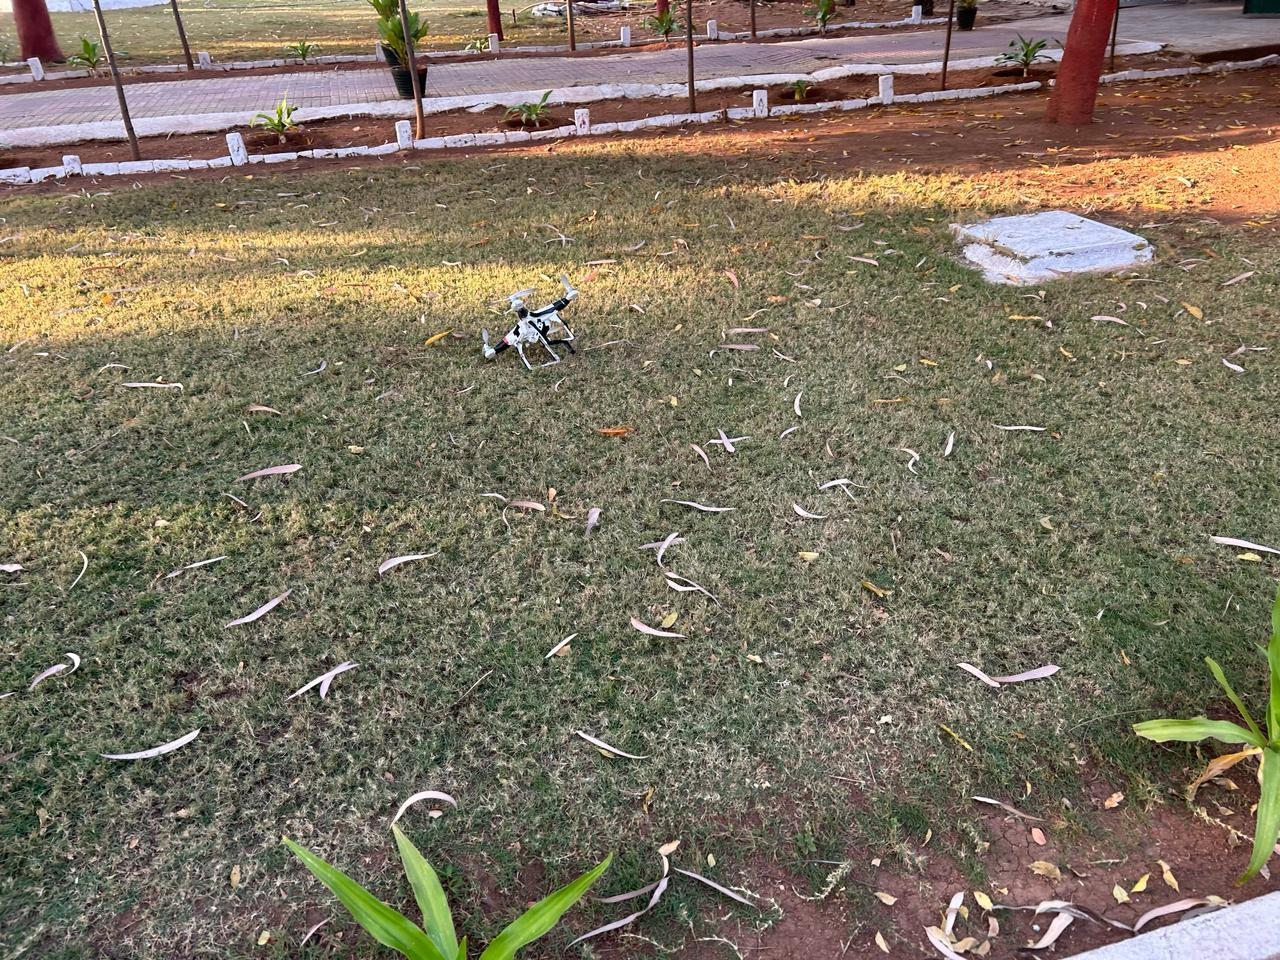drone: (451, 275, 595, 381)
